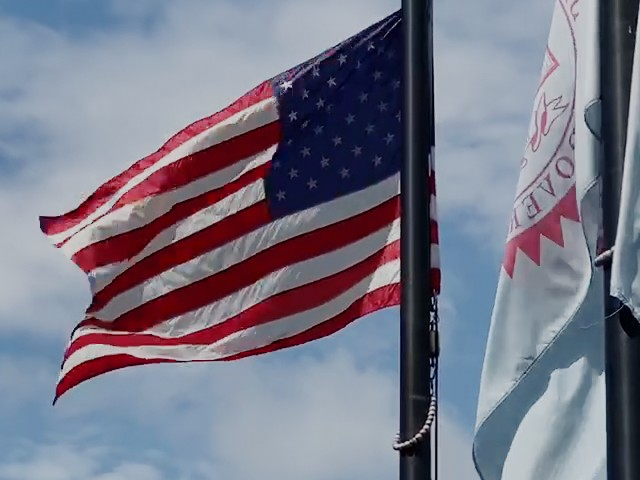America flag: (39, 3, 402, 407)
